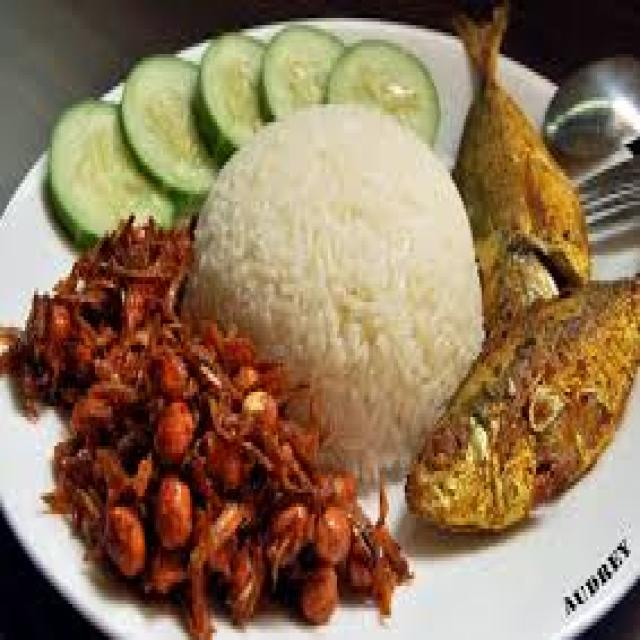Fish: (405, 4, 638, 529)
Green veg: (47, 22, 439, 244)
Rice: (185, 104, 482, 482)
